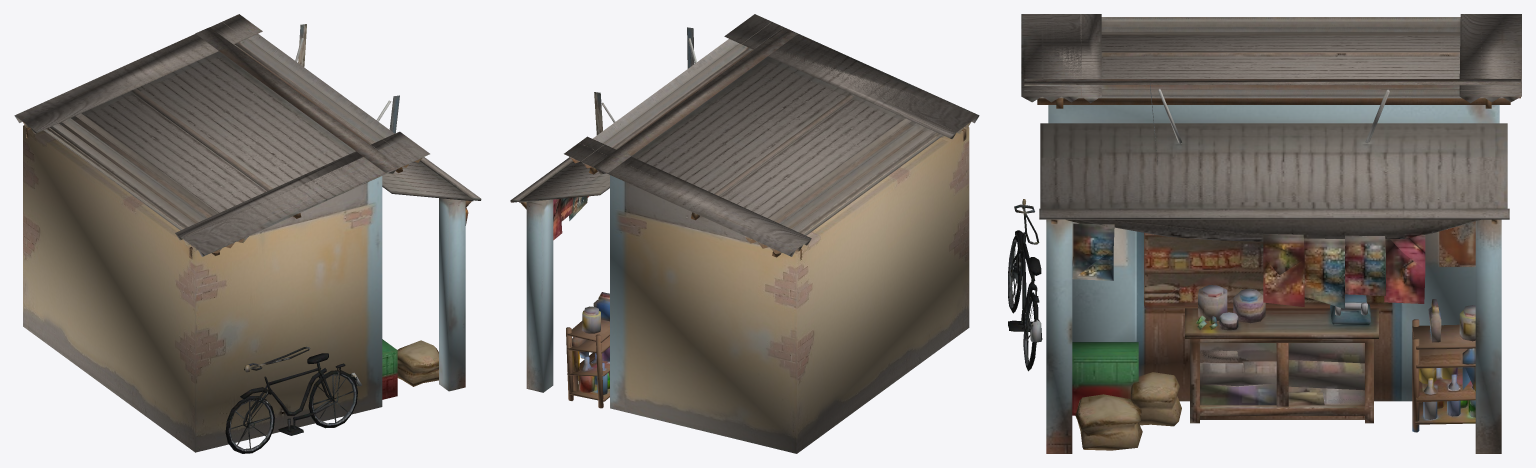
The model's file is tripo_convert_3c51efa2-52ff-47e6-876d-be7259b90b4f.fbx.
3 renders of one model, left to right at view 1: azimuth 30°, elevation 25°; view 2: azimuth 150°, elevation 25°; view 3: azimuth 270°, elevation 25°, orthographic. The views are drawn at different scales.
Visible parts, largest first — view 1: tripo_node_3c51efa2; view 2: tripo_node_3c51efa2; view 3: tripo_node_3c51efa2.
Part boxes in pixels (x1=…): tripo_node_3c51efa2: x1=14, y1=14, x2=481, y2=453; tripo_node_3c51efa2: x1=510, y1=14, x2=979, y2=453; tripo_node_3c51efa2: x1=1008, y1=14, x2=1521, y2=453.
Bounding box in the file's own units: 0.8574 × 0.7754 × 0.998.
